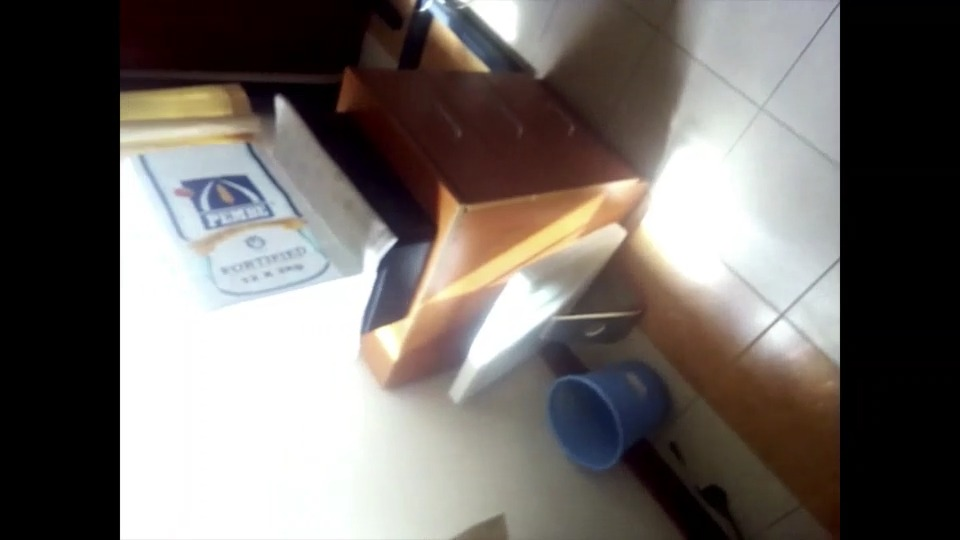wheat_flour_blue_label: (126, 141, 364, 303)
